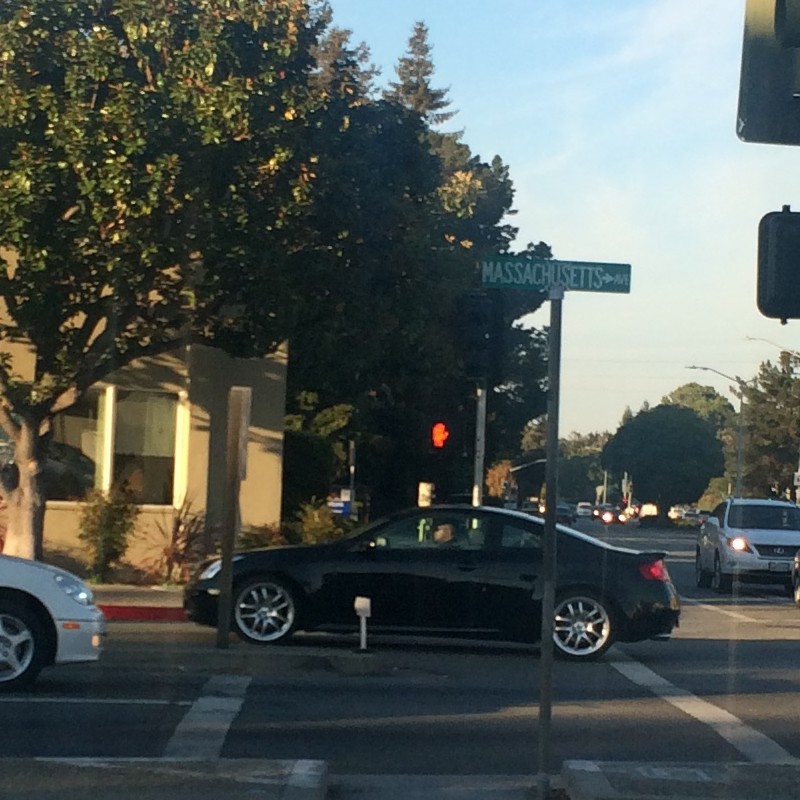stop: (428, 419, 467, 459)
